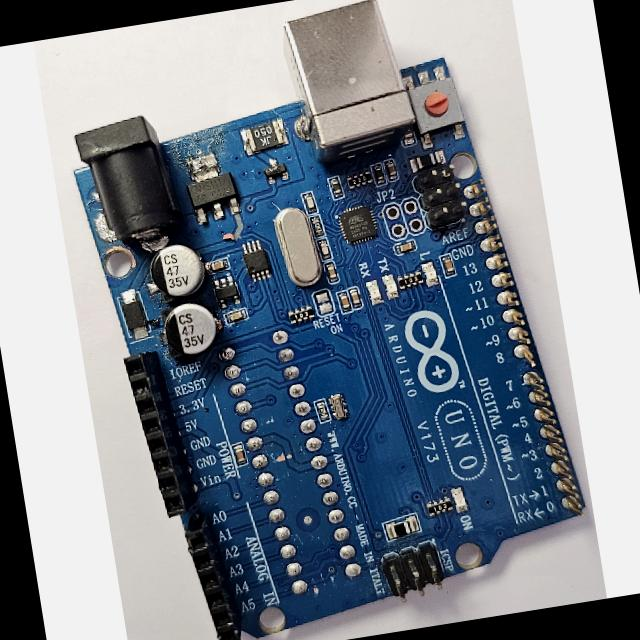missing_atmega: (214, 318, 378, 612)
missing_digital_pins: (463, 165, 594, 529)
